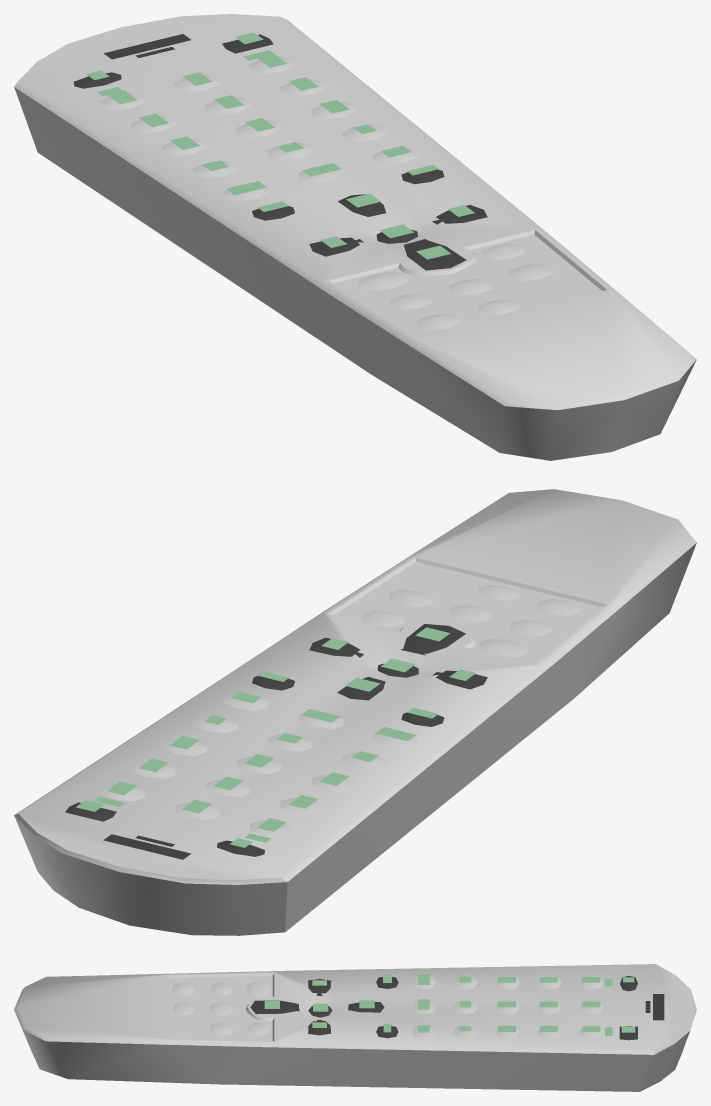
File: KKY261.FBX
3 views of the same model, one above another, from view 1: azimuth 30°, elevation 25°; view 2: azimuth 150°, elevation 25°; view 3: azimuth 270°, elevation 25° (orthographic). The views are drawn at different scales.
Visible parts, largest first — view 1: KKY261; view 2: KKY261; view 3: KKY261.
Boxes of the visible parts, <box> form: KKY261: <box>14,14,696,460</box>; KKY261: <box>14,489,696,935</box>; KKY261: <box>14,964,696,1091</box>.
Bounding box in the file's own units: 12.7 × 3.14 × 40.64.
